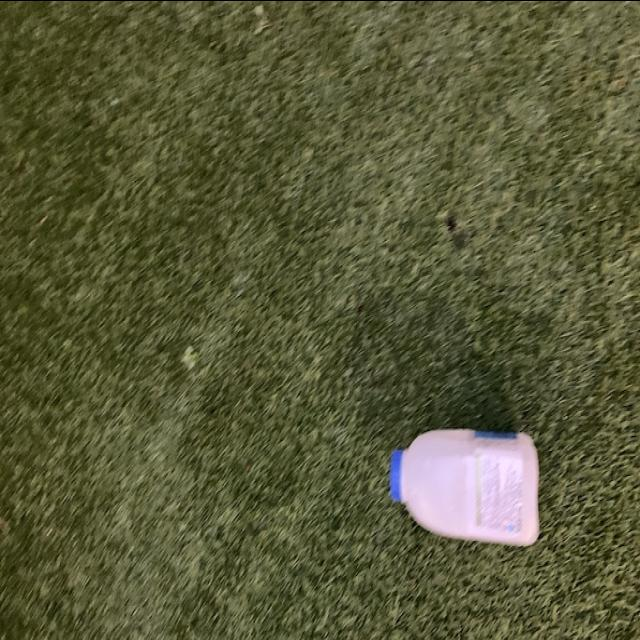HDPEM: (380, 432, 548, 548)
